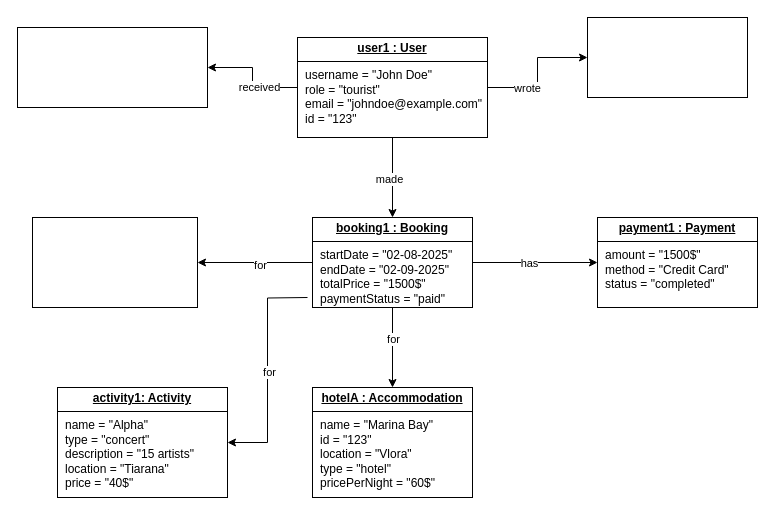
The diagram is 775 pixels wide and 515 high, and some of its shapes have lost their labels. The centre of each missing label's shape, as x and y in pixels:
alert1 : Alert message = "Weather warning" date = "27-08-2025": the point at 112,67
review1 : Review rating = "5" comment = "Awesome": the point at 667,57
transport1: Transport type = "bus" price = "5$" provider = "local goverment": the point at 115,262
